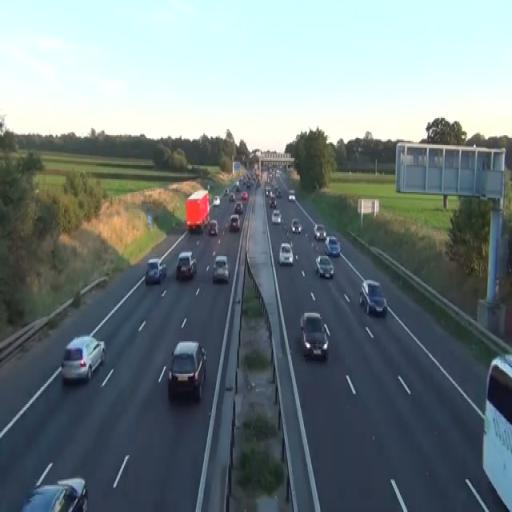Car: (19, 476, 89, 512), (167, 341, 207, 403), (61, 334, 106, 384), (300, 312, 330, 362), (358, 279, 388, 318), (145, 258, 167, 285), (176, 252, 197, 280), (212, 254, 230, 284), (314, 254, 334, 278), (279, 242, 294, 266), (325, 236, 341, 258)
Truck: (482, 354, 512, 511), (185, 189, 210, 233)
